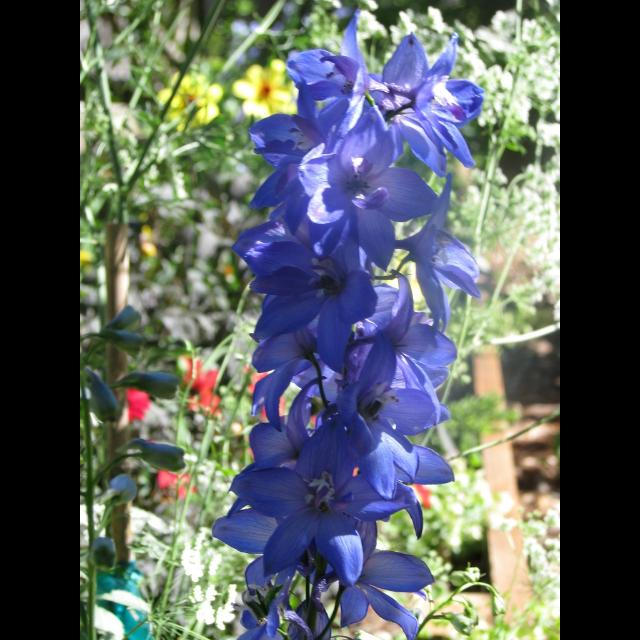Flower: (211, 6, 481, 640), (232, 424, 416, 584), (156, 69, 222, 131), (174, 349, 222, 415), (156, 466, 196, 498), (125, 388, 151, 420)
